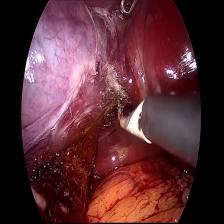Grasper: (117, 0, 142, 21)
Hook: (116, 89, 154, 155)
